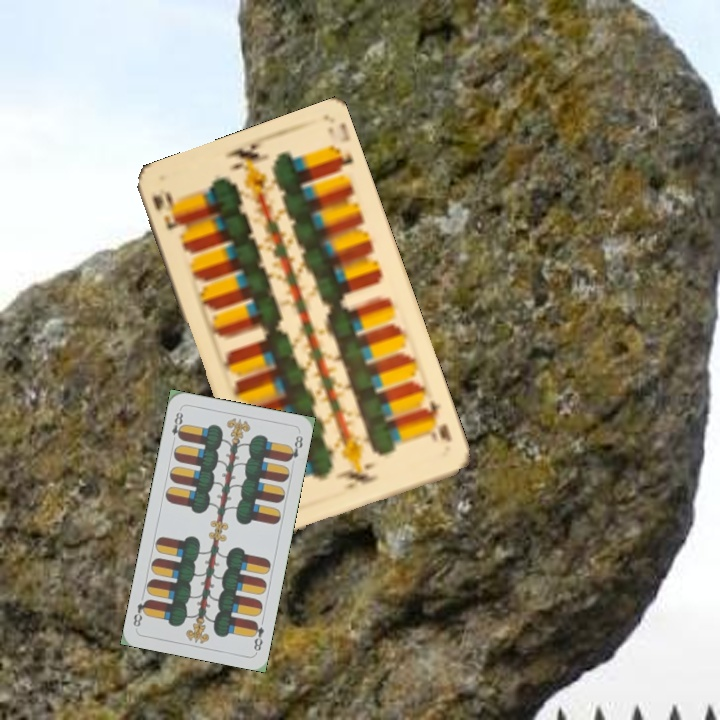E10: (418, 396, 454, 445), (148, 187, 183, 232)
E8: (167, 406, 187, 446), (248, 617, 267, 653)
